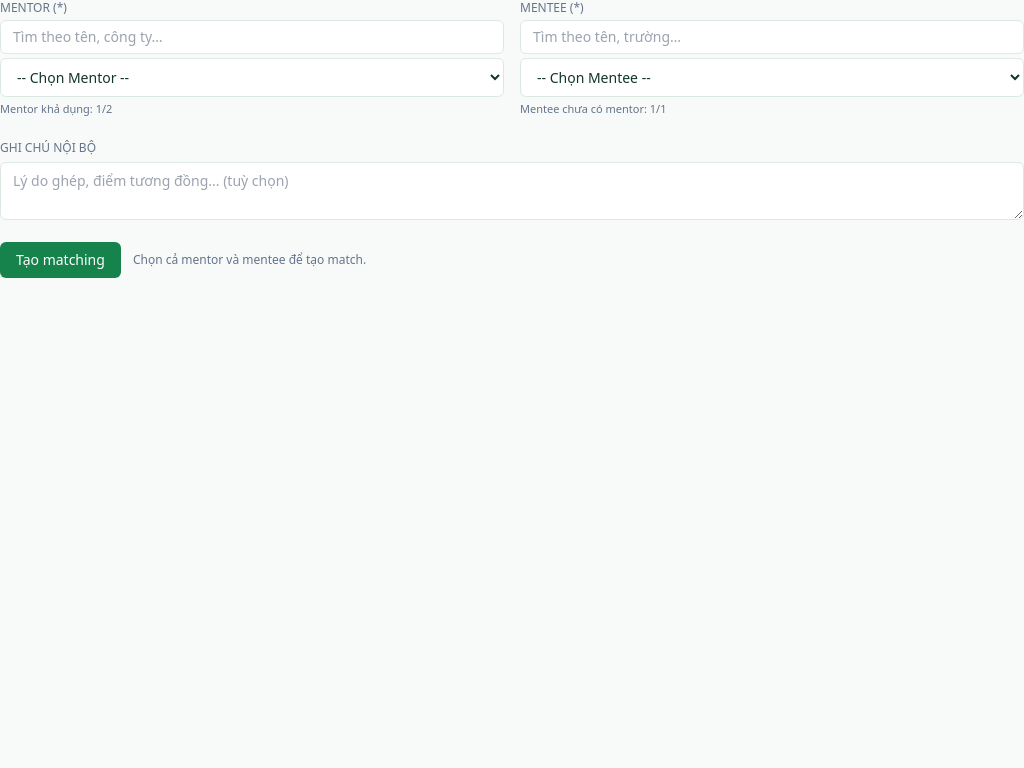
it: J · opening and closing the mentor drawer preserves matching state › does not navigate away or open a tab
In the field with placeholder "Tìm theo tên, công ty…": (252, 37) [0,20,504,54], type "Alpha"
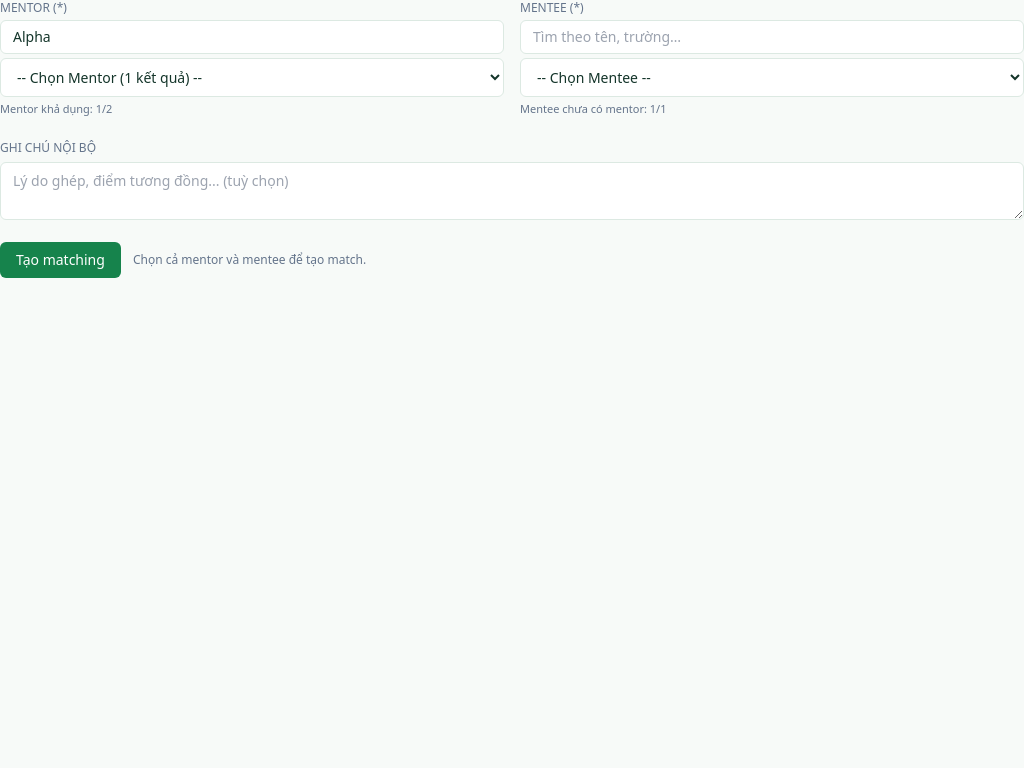
Select "[0/2] Nguyen Mentor Alpha — Acme" in the dropdown named "Chọn Mentor" below "Mentor (*)": (252, 78) [0,58,504,97]
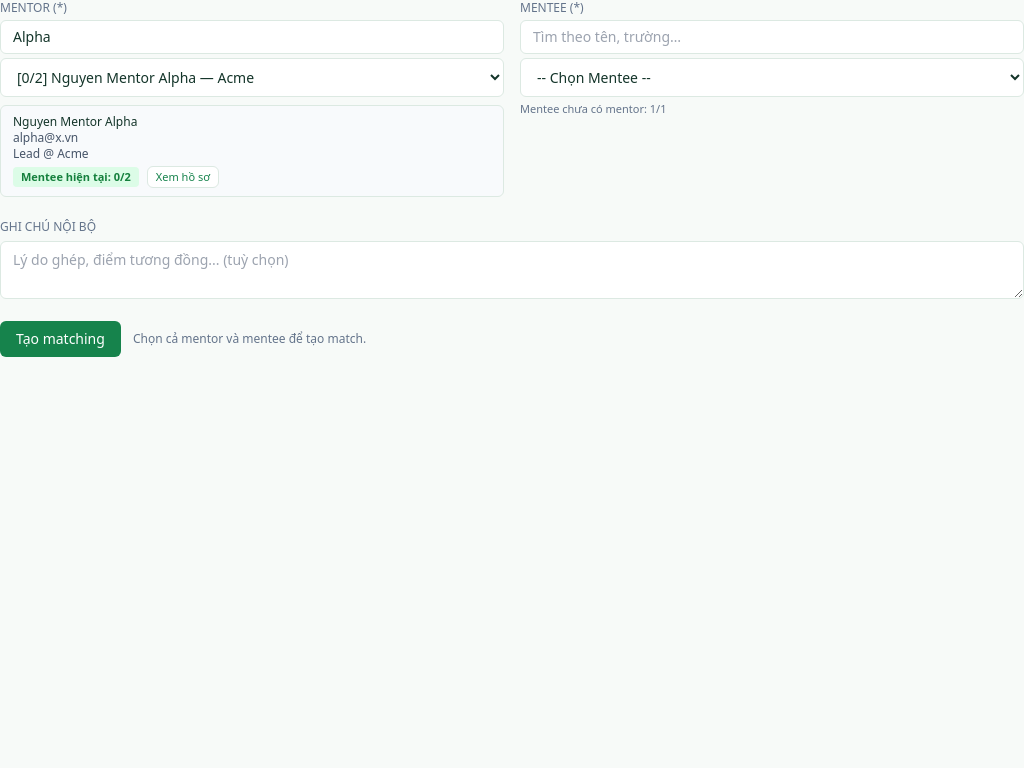
Select "Le Mentee One (UEH)" in the dropdown named "Chọn Mentee" below "Mentee (*)": (772, 78) [520,58,1023,97]
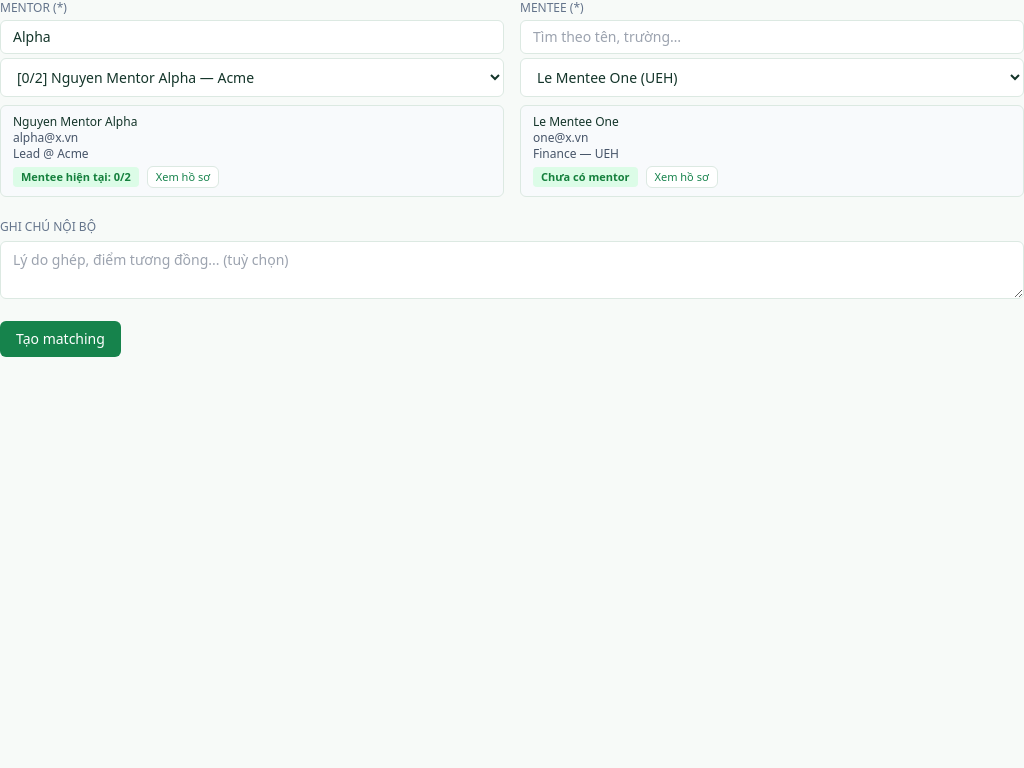
In the text box with placeholder "Lý do ghép, điểm tương đồng... (tuỳ chọn)": (512, 270) [0,241,1023,299], type "ghi chú nội bộ"
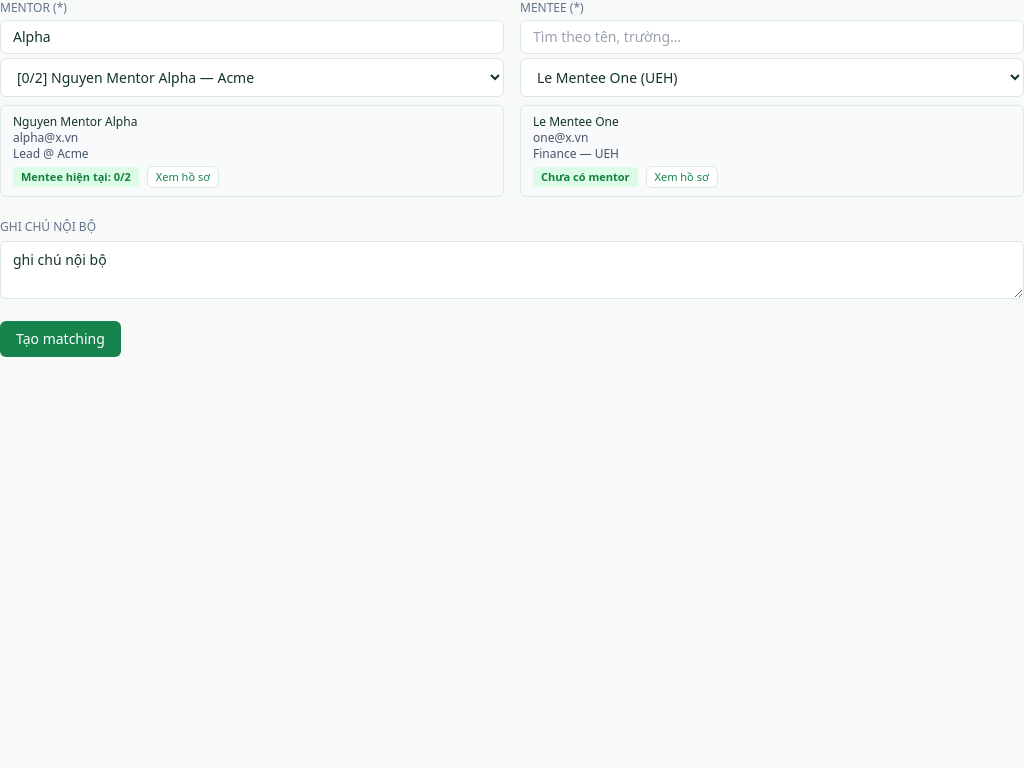
Click the button "Xem hồ sơ" next to "0/2": click(183, 177) [147,166,219,188]
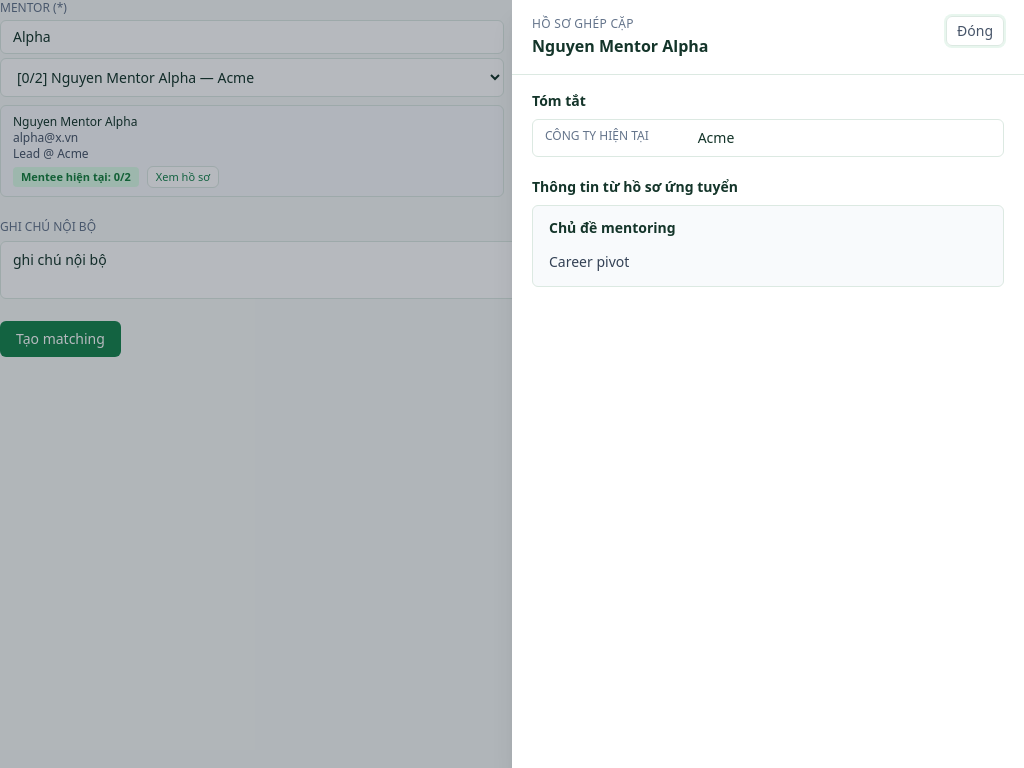
Check: the heading "Chủ đề mentoring" is shown, box [549,218,676,238]
